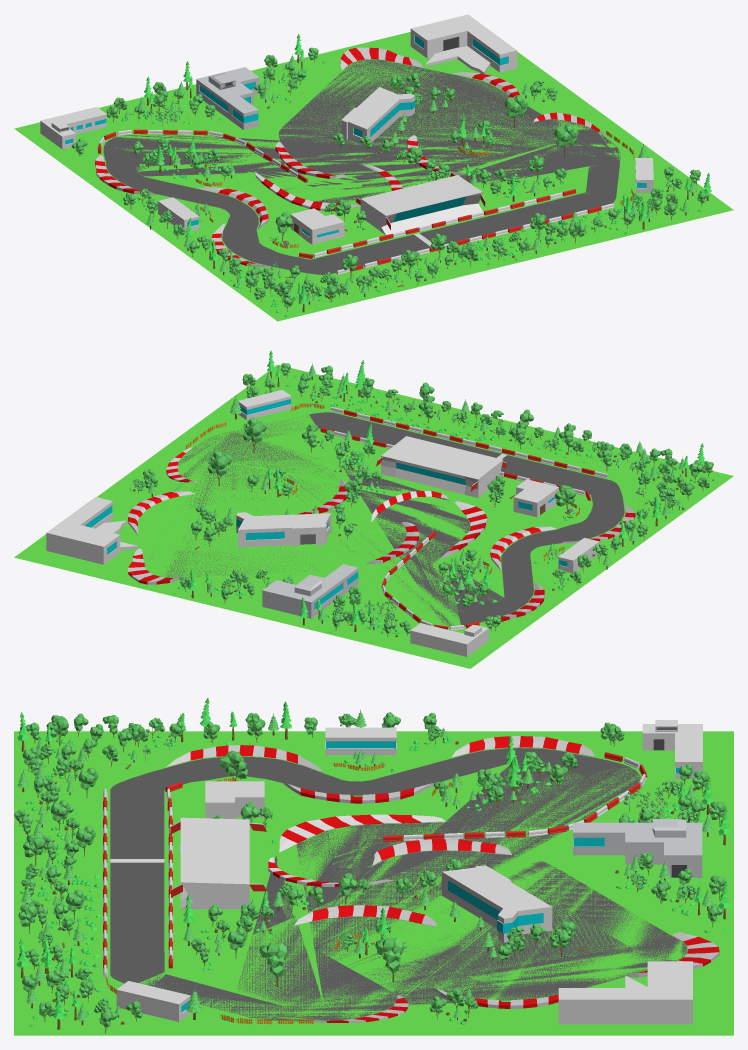
Rendered from pista.fbx.
3 views of the same model, one above another, from view 1: azimuth 30°, elevation 25°; view 2: azimuth 150°, elevation 25°; view 3: azimuth 270°, elevation 25° (orthographic). The views are drawn at different scales.
Parts seen in each view (by area): view 1: default10.006; view 2: default10.006; view 3: default10.006.
Boxes of the visible parts, left/top/right/bottom form: default10.006: left=14, top=14, right=733, bottom=321; default10.006: left=14, top=350, right=733, bottom=668; default10.006: left=14, top=697, right=733, bottom=1035.
Size of what is drawn, in the model's own units: 26568 by 1926 by 26337.
